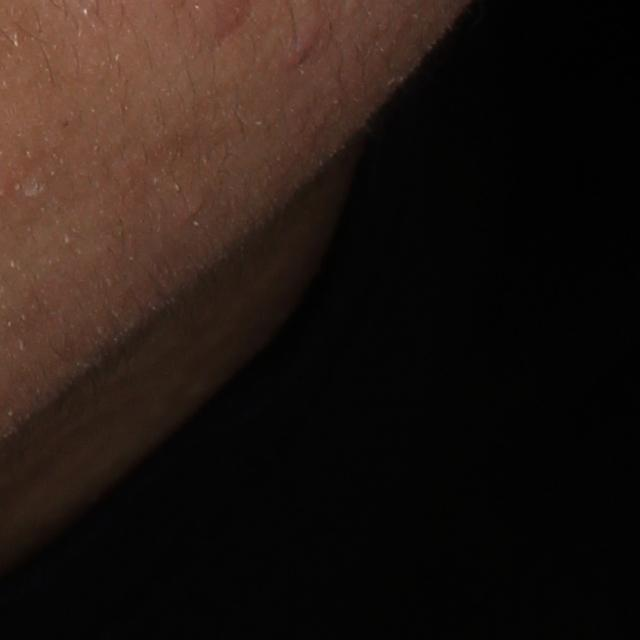papule: (283, 14, 325, 72)
